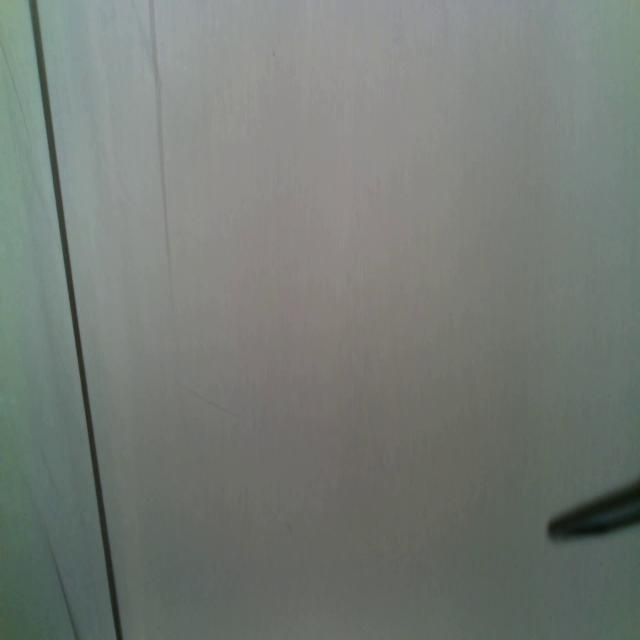crease: (147, 0, 175, 309), (181, 384, 243, 424)
